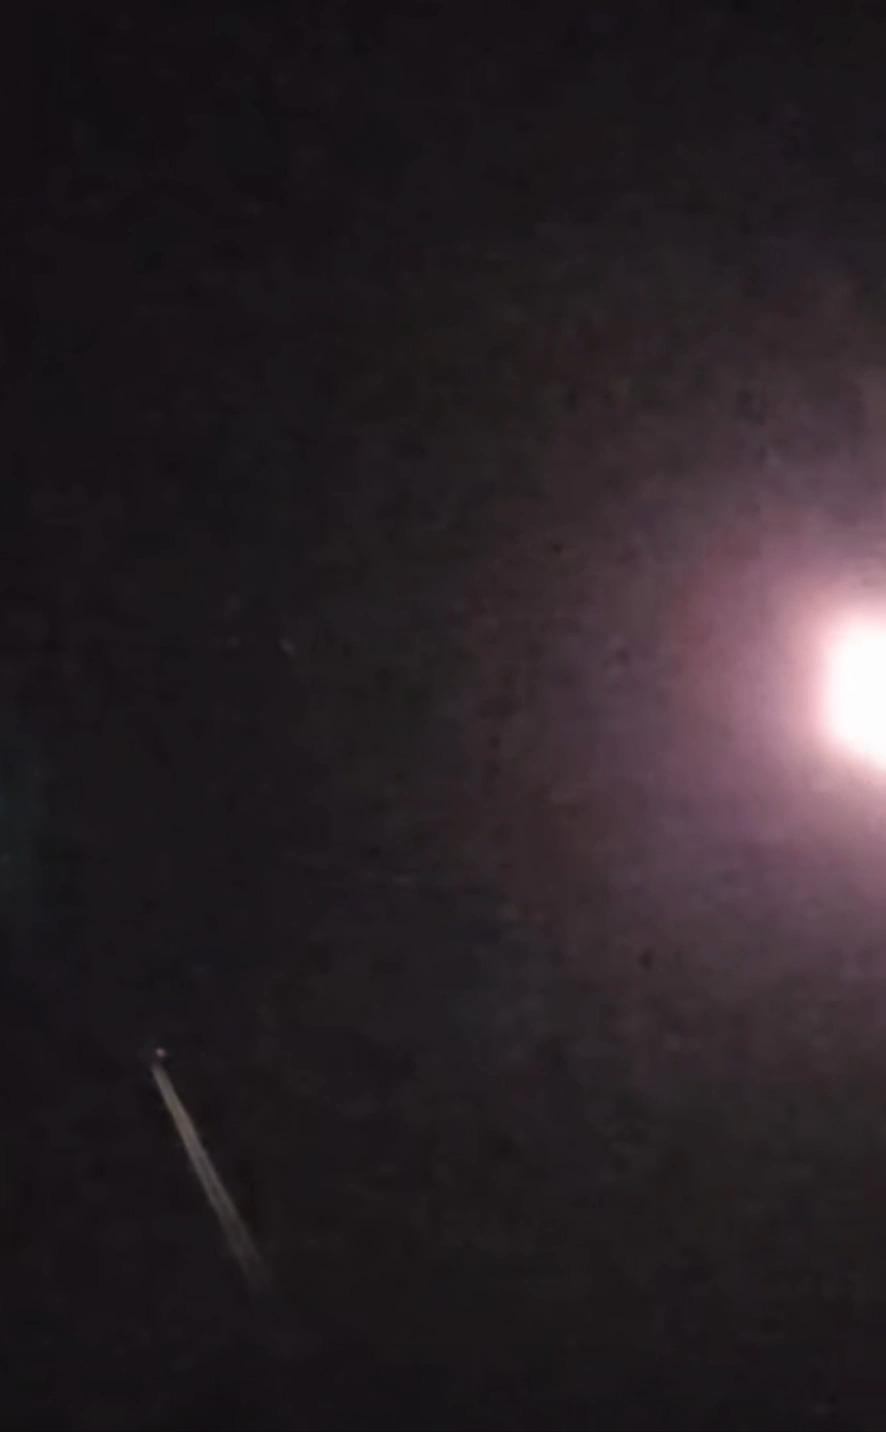Plane: (124, 1034, 247, 1180)
